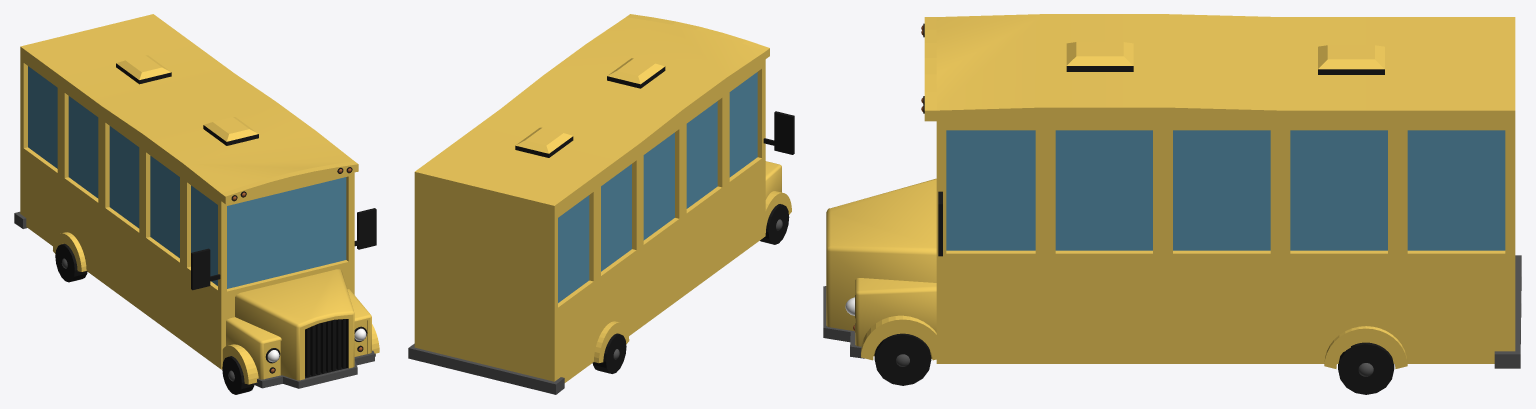
Rendered from 8xacyNqdJ3t.glb.
The picture shows the model from 3 angles, left to right: view 1: azimuth 30°, elevation 25°; view 2: azimuth 150°, elevation 25°; view 3: azimuth 270°, elevation 25°; orthographic projection. The views are drawn at different scales.
Parts seen in each view (by area): view 1: Box001; view 2: Box001; view 3: Box001.
Boxes of the visible parts, x1,y1,x2,y2 form: Box001: (14,14,379,394); Box001: (408,14,794,394); Box001: (823,14,1521,394).
Bounding box in the file's own units: 0.9376 × 0.9999 × 2.14.
